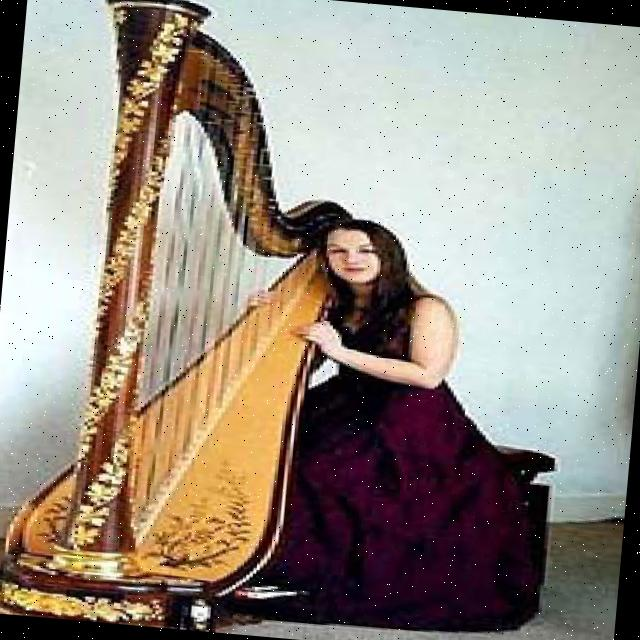harp: (0, 0, 378, 639)
